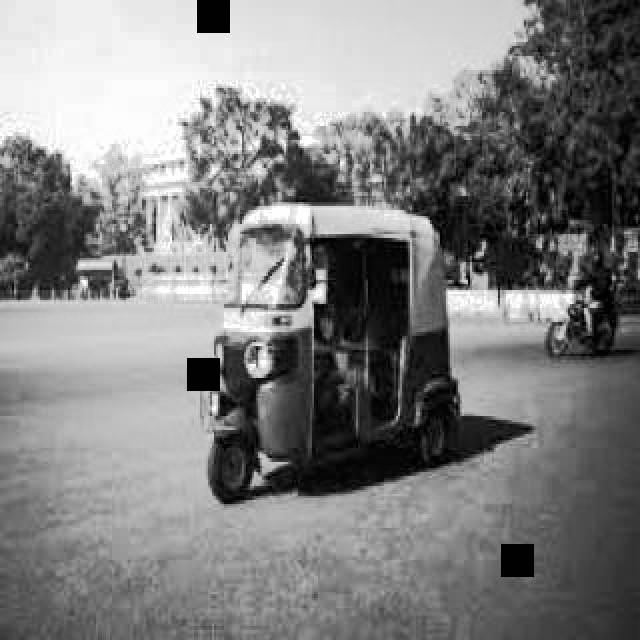Auto-Rickshaw: (192, 192, 532, 530)
